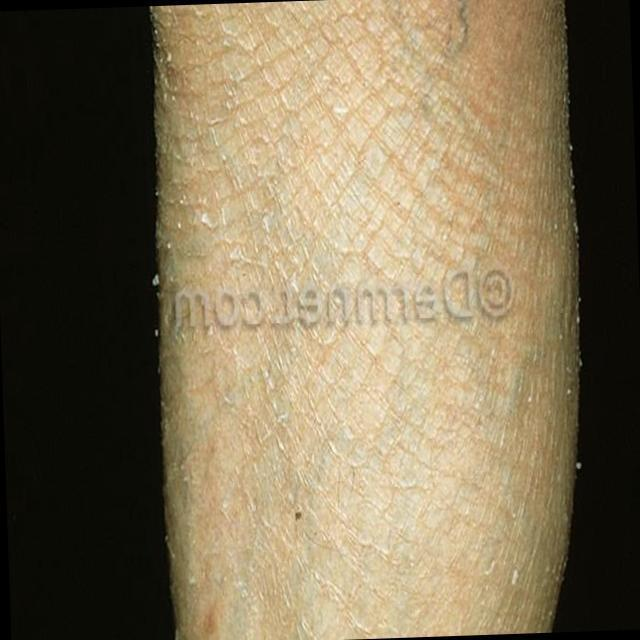Eczema: (153, 0, 335, 559)
